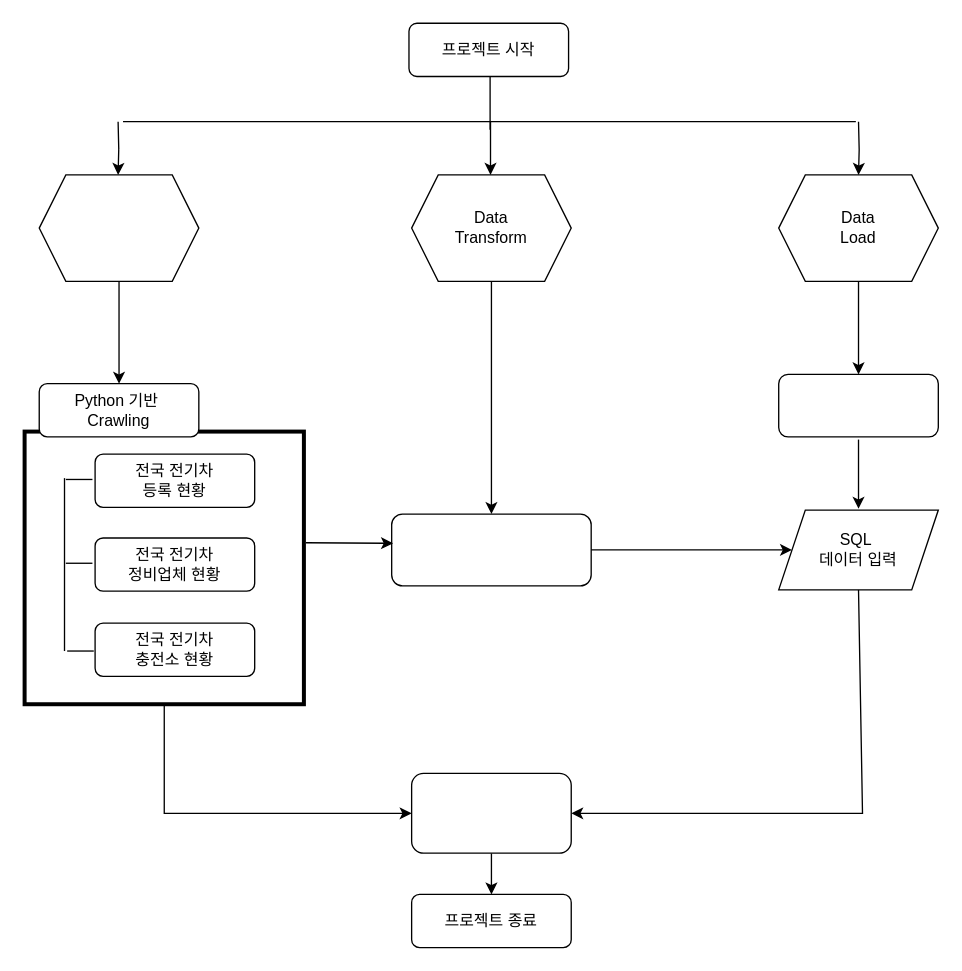
Some shapes in this 962 by 971 pixel diagram are drawn without their labels. Each missing label, with the centre of its shape:
Data Extract: the point at 118,227
DB 테이블 설계: the point at 857,405
Pandas DataFrame 기반 데이터 정제: the point at 490,549
Streamlit 기반 웹 인사이트 도출: the point at 490,812
